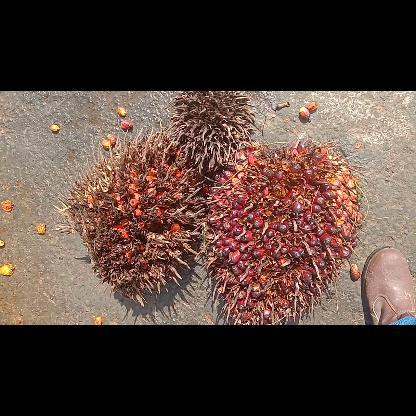Janjang kosong: (164, 90, 258, 170)
TBS masak: (194, 139, 364, 324)
Terlalu masak: (54, 122, 209, 306)
